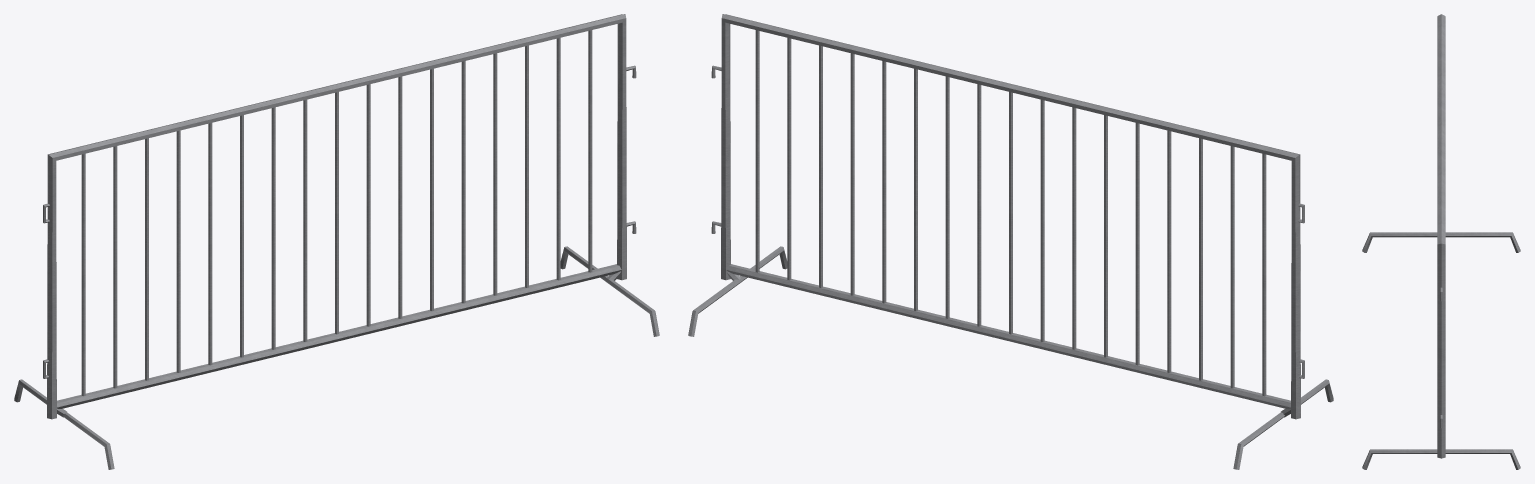
File: barrier_bike_rack.gltf
3 views of the same model, side by side, from view 1: azimuth 30°, elevation 25°; view 2: azimuth 150°, elevation 25°; view 3: azimuth 270°, elevation 25° (orthographic). The views are drawn at different scales.
Visible parts, largest first — view 1: barrier_bike_rack; view 2: barrier_bike_rack; view 3: barrier_bike_rack.
Part boxes in pixels (<box>): barrier_bike_rack: <box>14,14,659,469</box>; barrier_bike_rack: <box>688,14,1333,469</box>; barrier_bike_rack: <box>1362,14,1520,469</box>.
Bounding box in the file's own units: 2.39 × 1.1 × 0.6795.
1 material, 1 textured.
